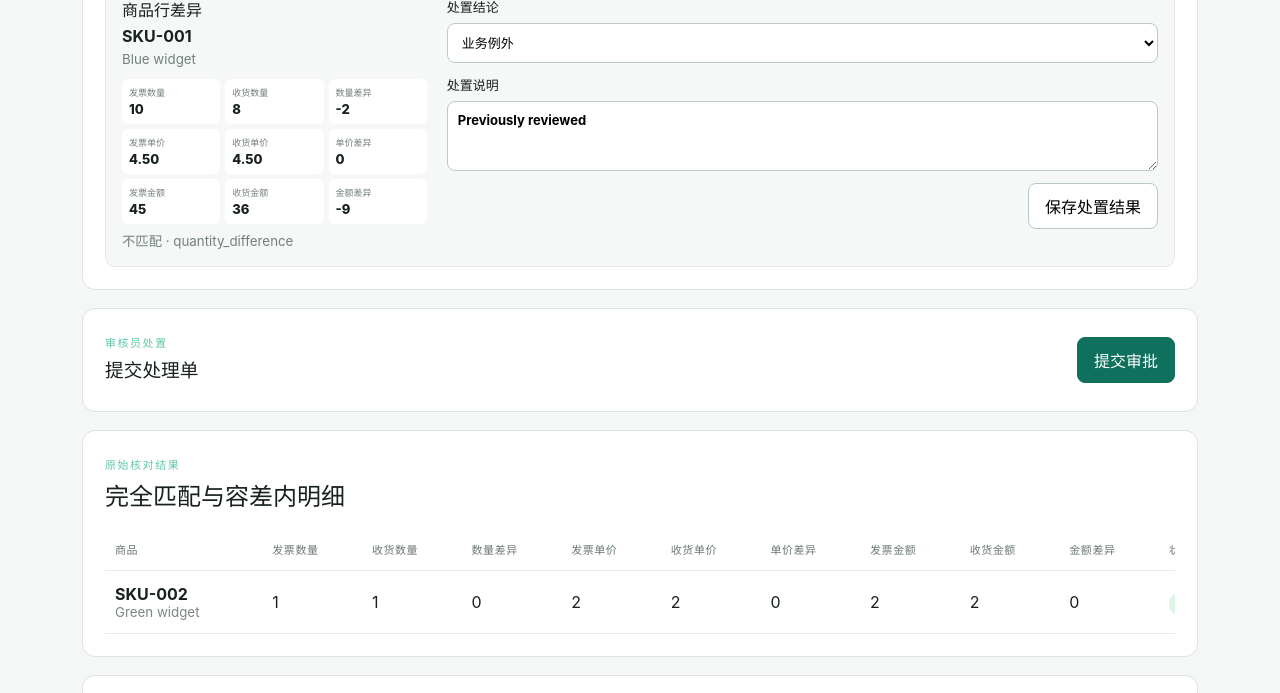
Test: CaseDetailPage reviewer workflow › refreshes detail after stale workflow error CASE_TERMINAL
(page scrolled)
Click the button "提交审批" at (1126, 360), box x1=1077 y1=337 x2=1175 y2=383
(page scrolled)
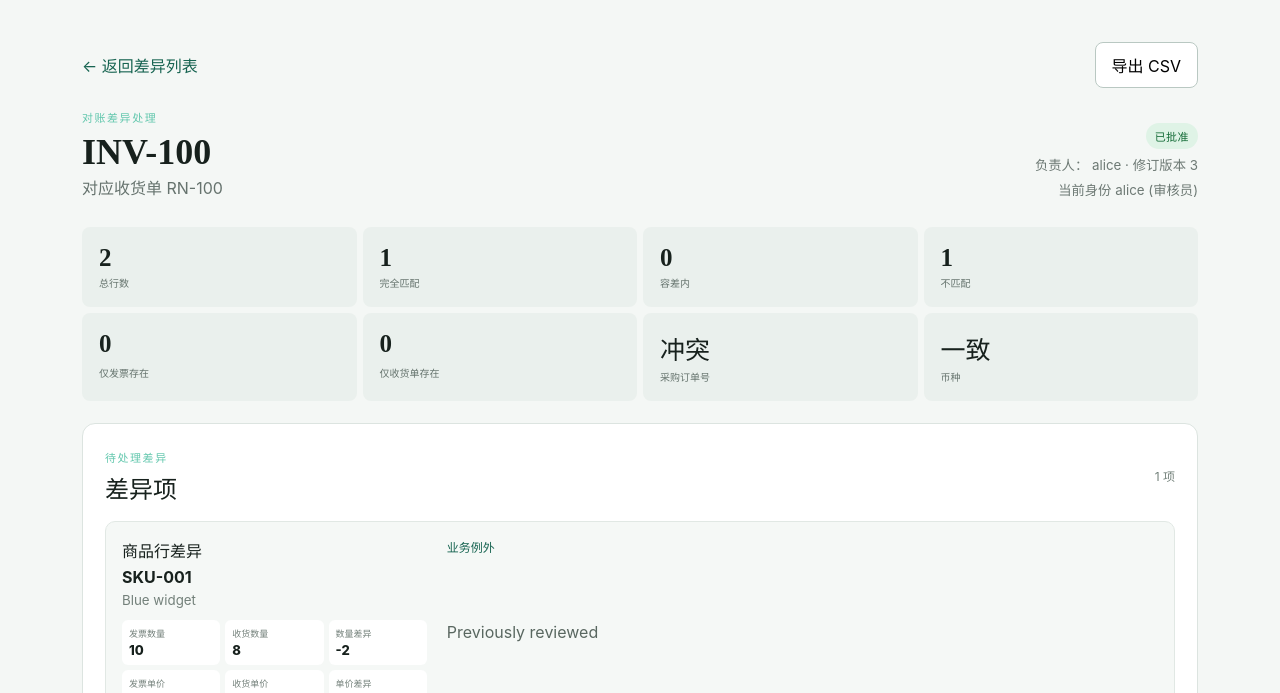
expect the text "负责人： alice · 修订版本 3" is shown: met, box x1=1035 y1=155 x2=1198 y2=174
